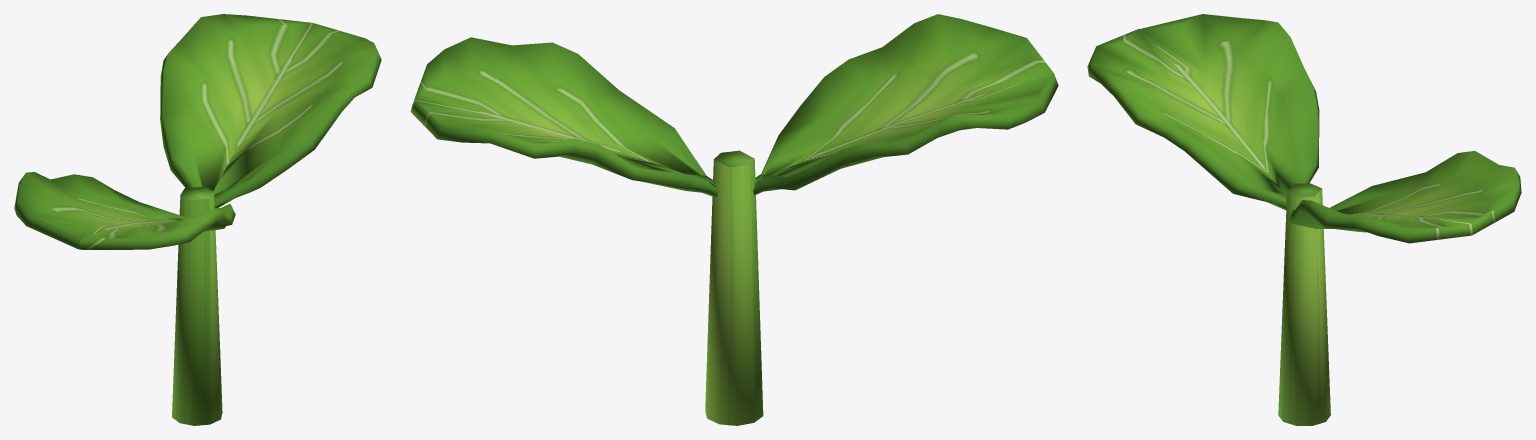
File: NP_Shared_Sprout_LOD1.fbx
3 views of the same model, side by side, from view 1: azimuth 30°, elevation 25°; view 2: azimuth 150°, elevation 25°; view 3: azimuth 270°, elevation 25° (orthographic). The views are drawn at different scales.
Visible parts, largest first — view 1: NP_Shared_Sprout; view 2: NP_Shared_Sprout; view 3: NP_Shared_Sprout.
Part boxes in pixels (x1,y1,x2,y2): NP_Shared_Sprout: [14, 14, 381, 425]; NP_Shared_Sprout: [410, 14, 1058, 425]; NP_Shared_Sprout: [1087, 14, 1521, 425].
Size of the model in its own units: 17.67 by 11.39 by 14.86.
